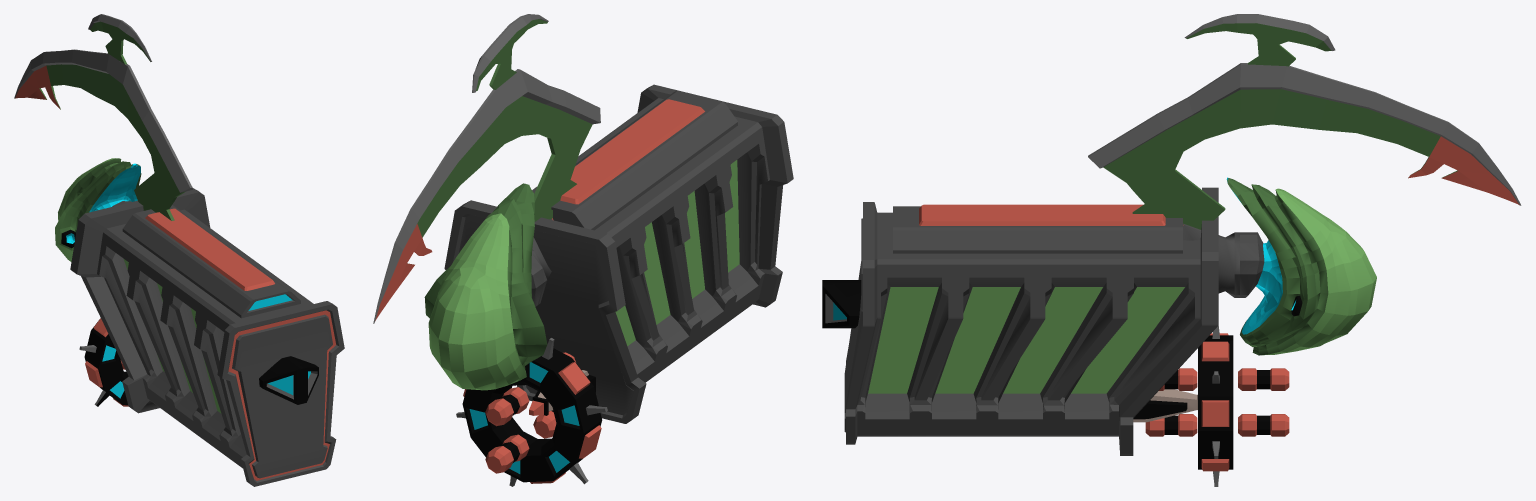
The model's file is boss03.fbx.
The picture shows the model from 3 angles, left to right: view 1: azimuth 30°, elevation 25°; view 2: azimuth 150°, elevation 25°; view 3: azimuth 270°, elevation 25°; orthographic projection. The views are drawn at different scales.
Visible parts, largest first — view 1: boss03; view 2: boss03; view 3: boss03.
Part boxes in pixels (box(x1,y1,x2,y2)): boss03: box(14, 14, 344, 486); boss03: box(373, 14, 793, 486); boss03: box(822, 14, 1521, 486).
Bounding box in the file's own units: 297 × 792 × 1083.
